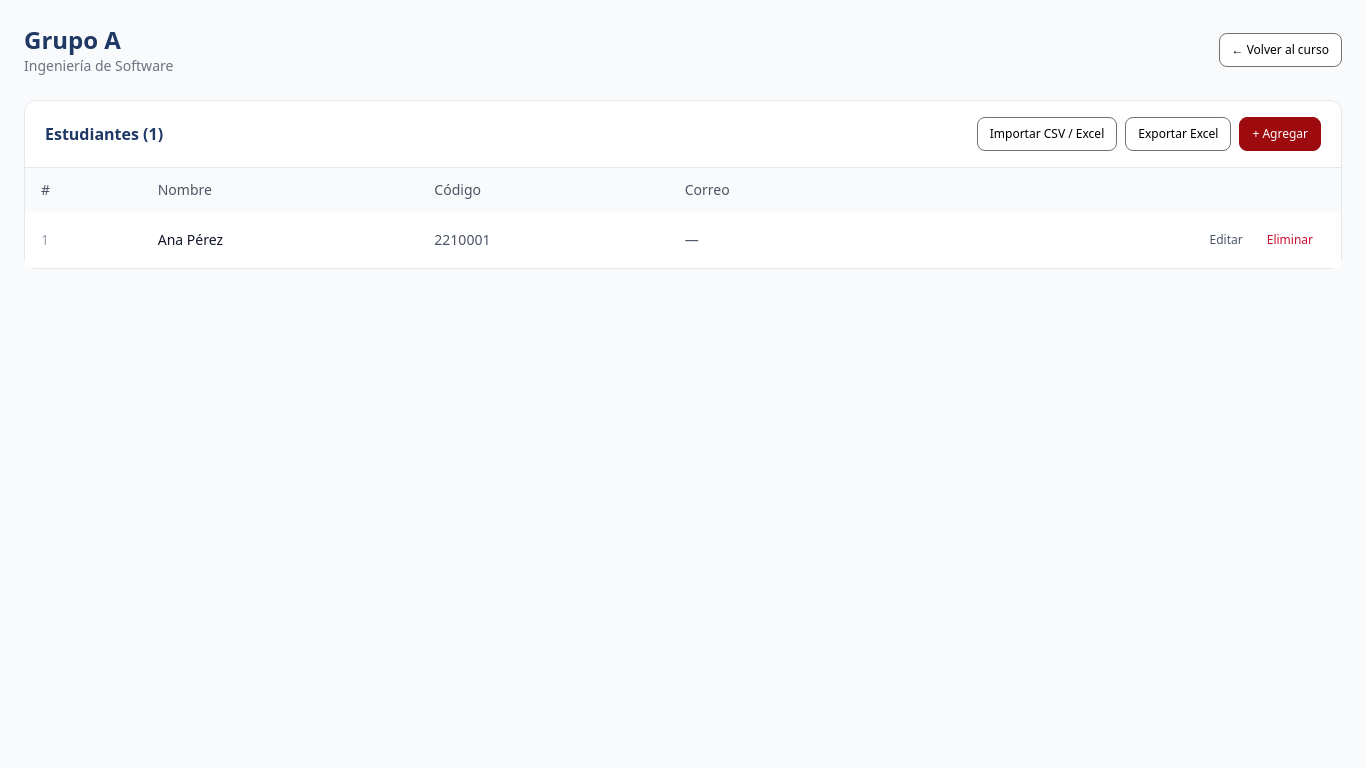
it: SectionPage — eliminar estudiante › si estudiantesApi.delete falla, el modal sigue abierto y muestra el detalle del backend
Click the button "Eliminar".
click(1290, 240)  # box [1255,224,1325,256]
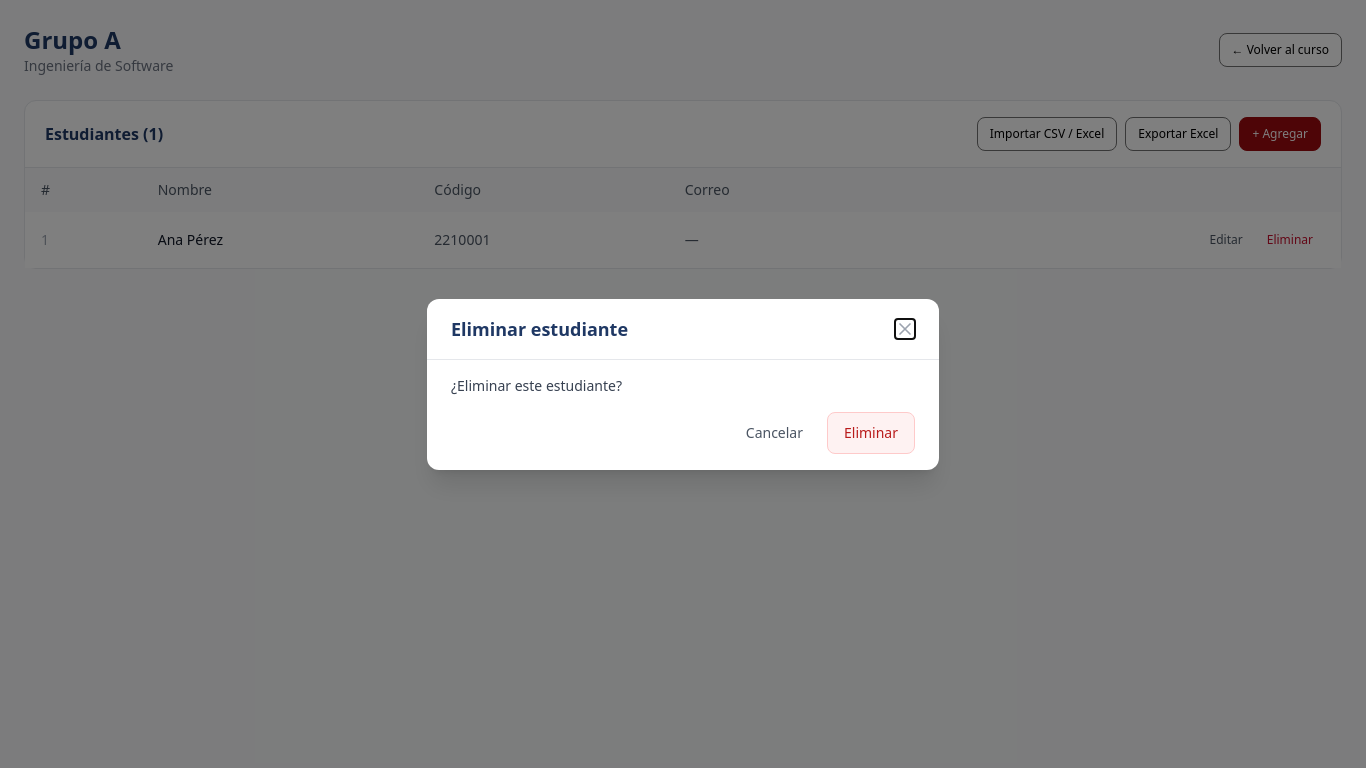
Expected: the text "¿Eliminar este estudiante?" is shown, [451,376,622,394]
Click the button "Eliminar".
click(871, 432)  # box [827,412,915,454]
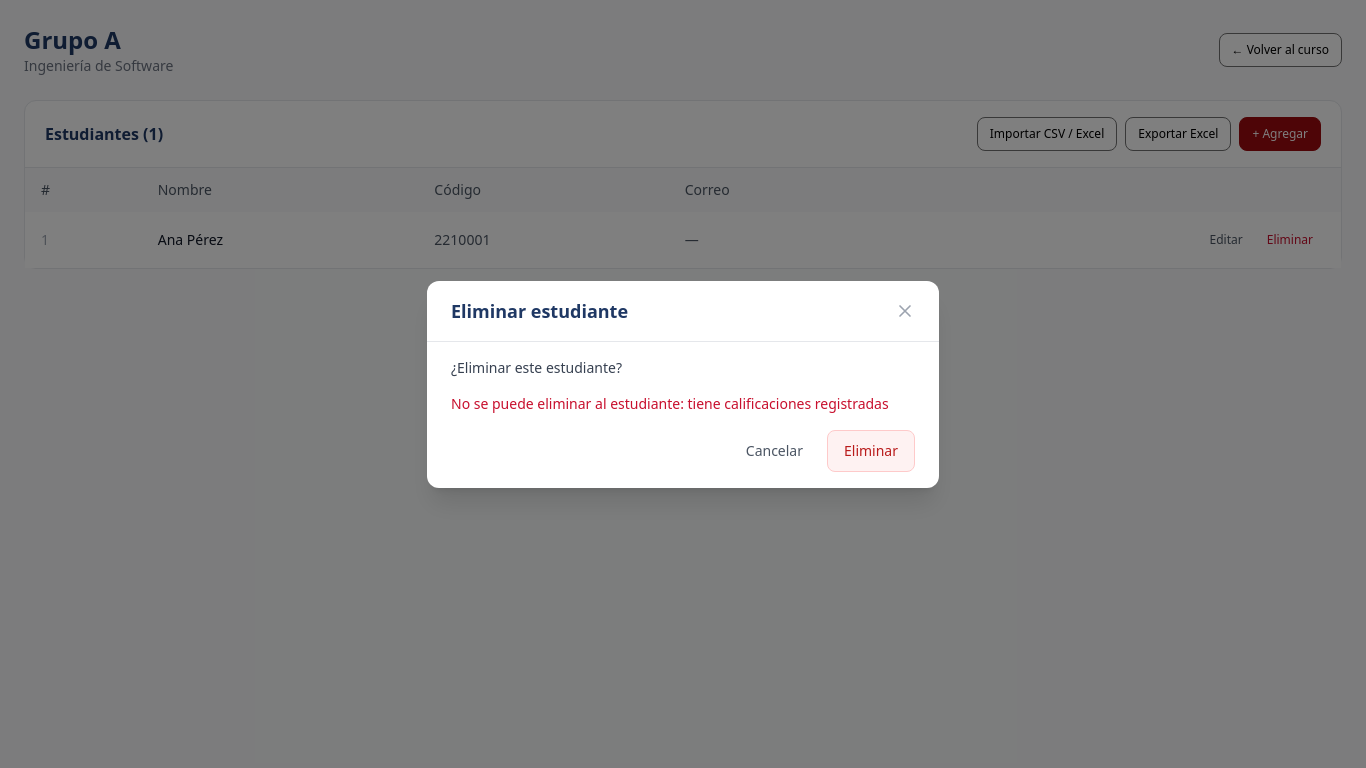
Expected: the text "Ana Pérez" is shown, [142,212,418,268]
Expected: the button "Eliminar" is shown, [827,430,915,472]
Expected: the text "No se puede eliminar al estudiante: tiene calificaciones registradas" is shown, [451,394,915,414]
